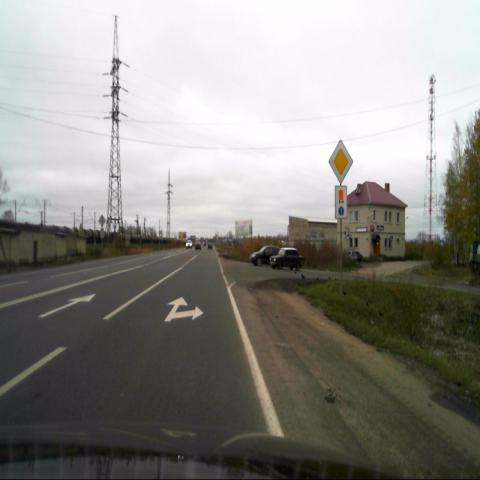2_1: (328, 140, 353, 184)
